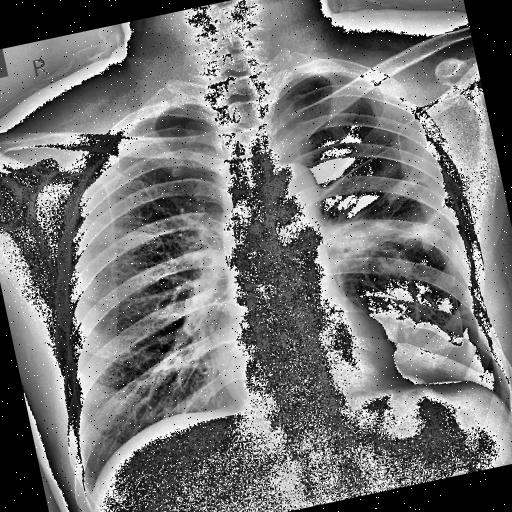12- Pneumothorax: (264, 46, 512, 445), (350, 244, 512, 433), (272, 52, 430, 192), (274, 56, 433, 192), (373, 265, 504, 419)
13- Pulmonary fibrosis: (331, 207, 438, 262)
